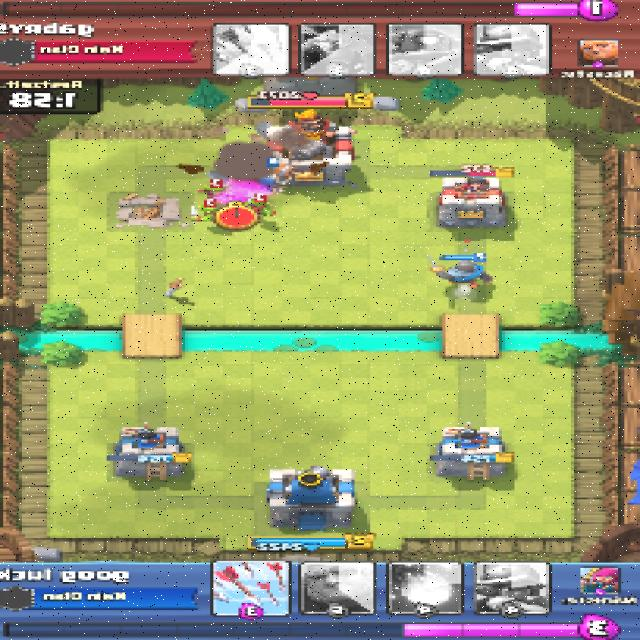Enemy-Goblin: (238, 197, 275, 219), (193, 203, 225, 227), (198, 183, 232, 202)
Player-Knight: (431, 259, 496, 288)
Player-Wallbreaker: (258, 167, 291, 190)
